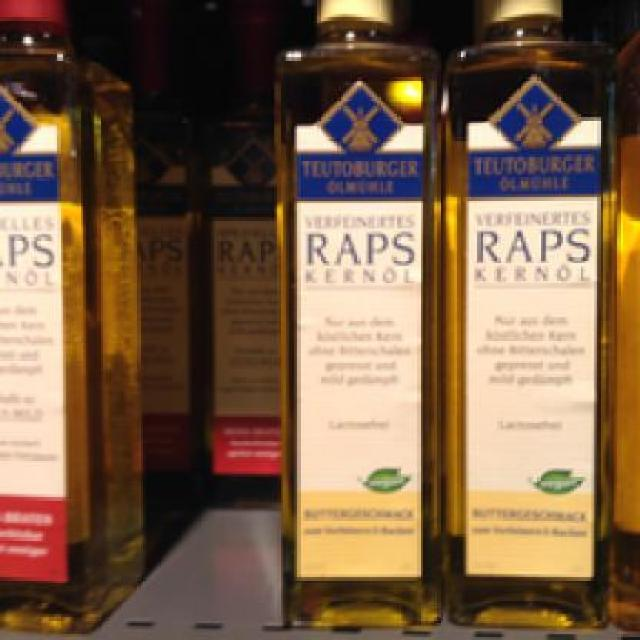Oil: (444, 0, 618, 632), (271, 0, 440, 632), (0, 0, 144, 635)
